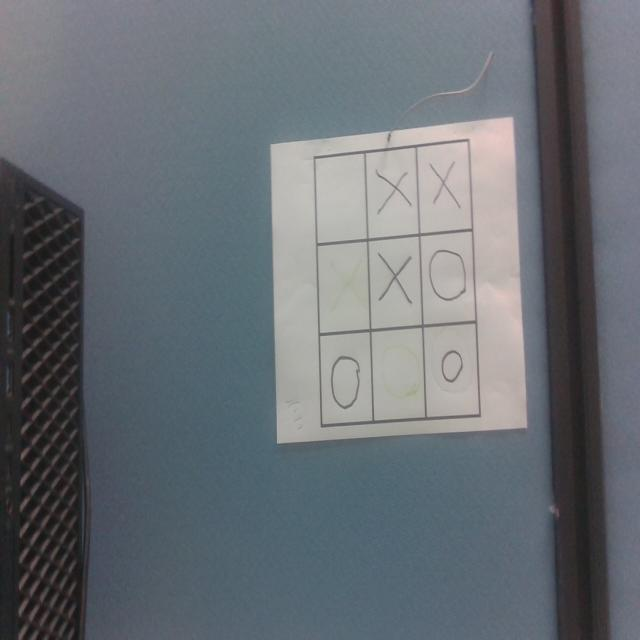null: (316, 153, 366, 245)
o: (381, 347, 423, 400), (428, 247, 467, 301), (330, 355, 361, 408), (440, 348, 464, 383)
table: (318, 136, 478, 426)
x: (327, 258, 365, 316), (376, 252, 413, 307), (374, 169, 413, 214), (429, 160, 461, 210)
